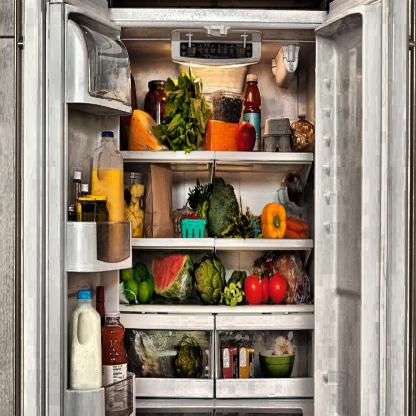apple: (237, 121, 256, 150)
blueberries: (213, 98, 240, 122)
broccoli: (207, 181, 239, 235)
carrot: (285, 216, 308, 238)
cheese: (129, 110, 159, 150)
eggs: (262, 117, 292, 149)
milk: (72, 292, 102, 387)
pickles: (98, 210, 109, 259)
tomato: (268, 272, 288, 302), (246, 275, 262, 304)
yellow_bell_pepper: (262, 203, 286, 239)
